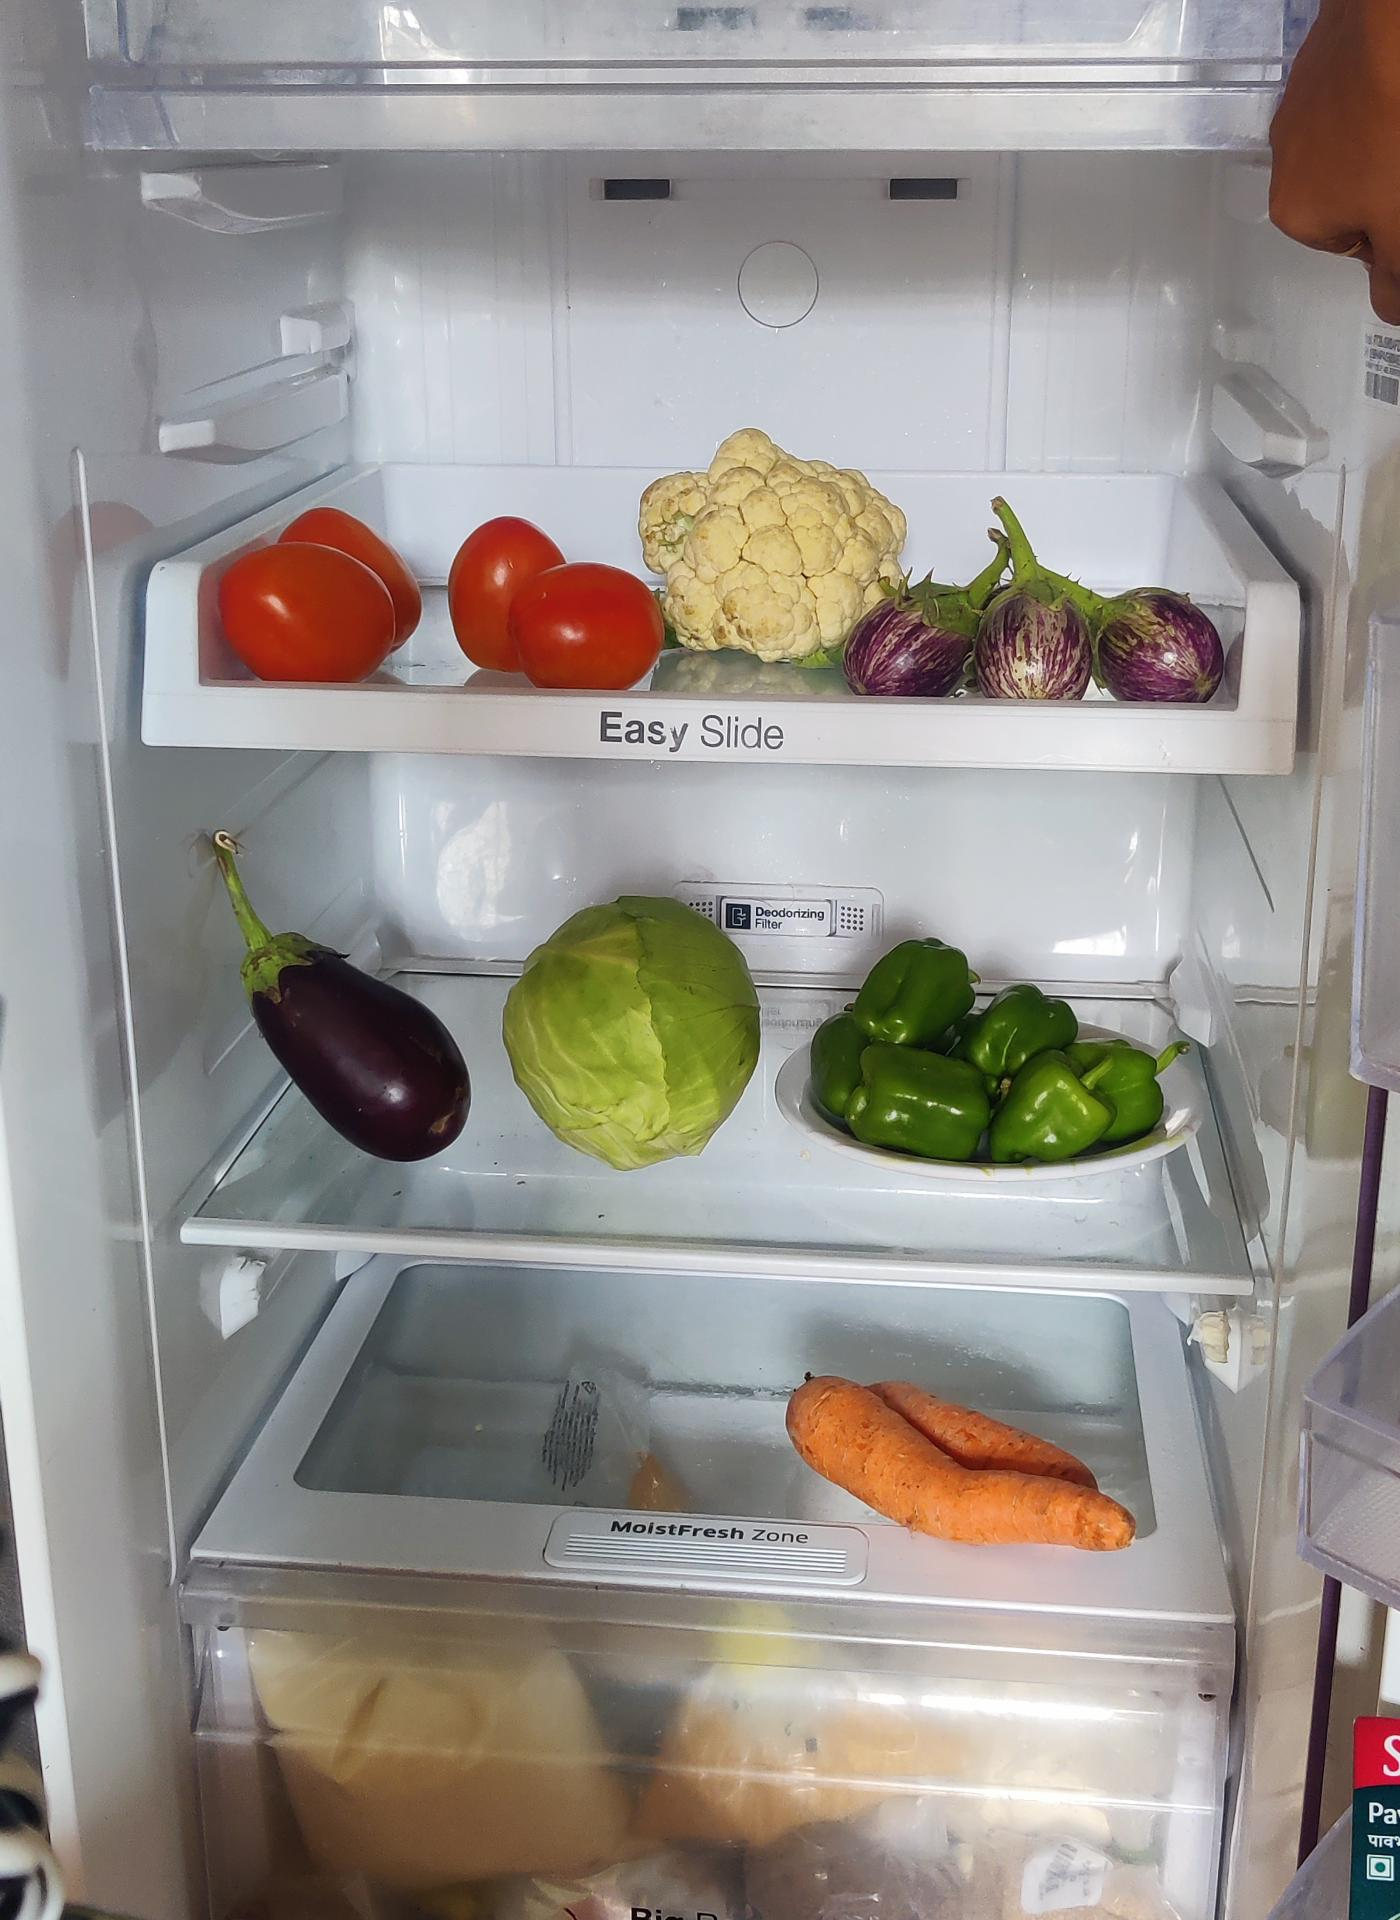brinjal: (212, 837, 472, 1150), (902, 516, 1228, 702)
cabbage: (506, 894, 770, 1169)
capsicum: (804, 938, 1163, 1156)
carrots: (772, 1374, 1126, 1538)
cauliflower: (627, 415, 923, 682)
tomato: (210, 497, 416, 688), (464, 525, 665, 695)
